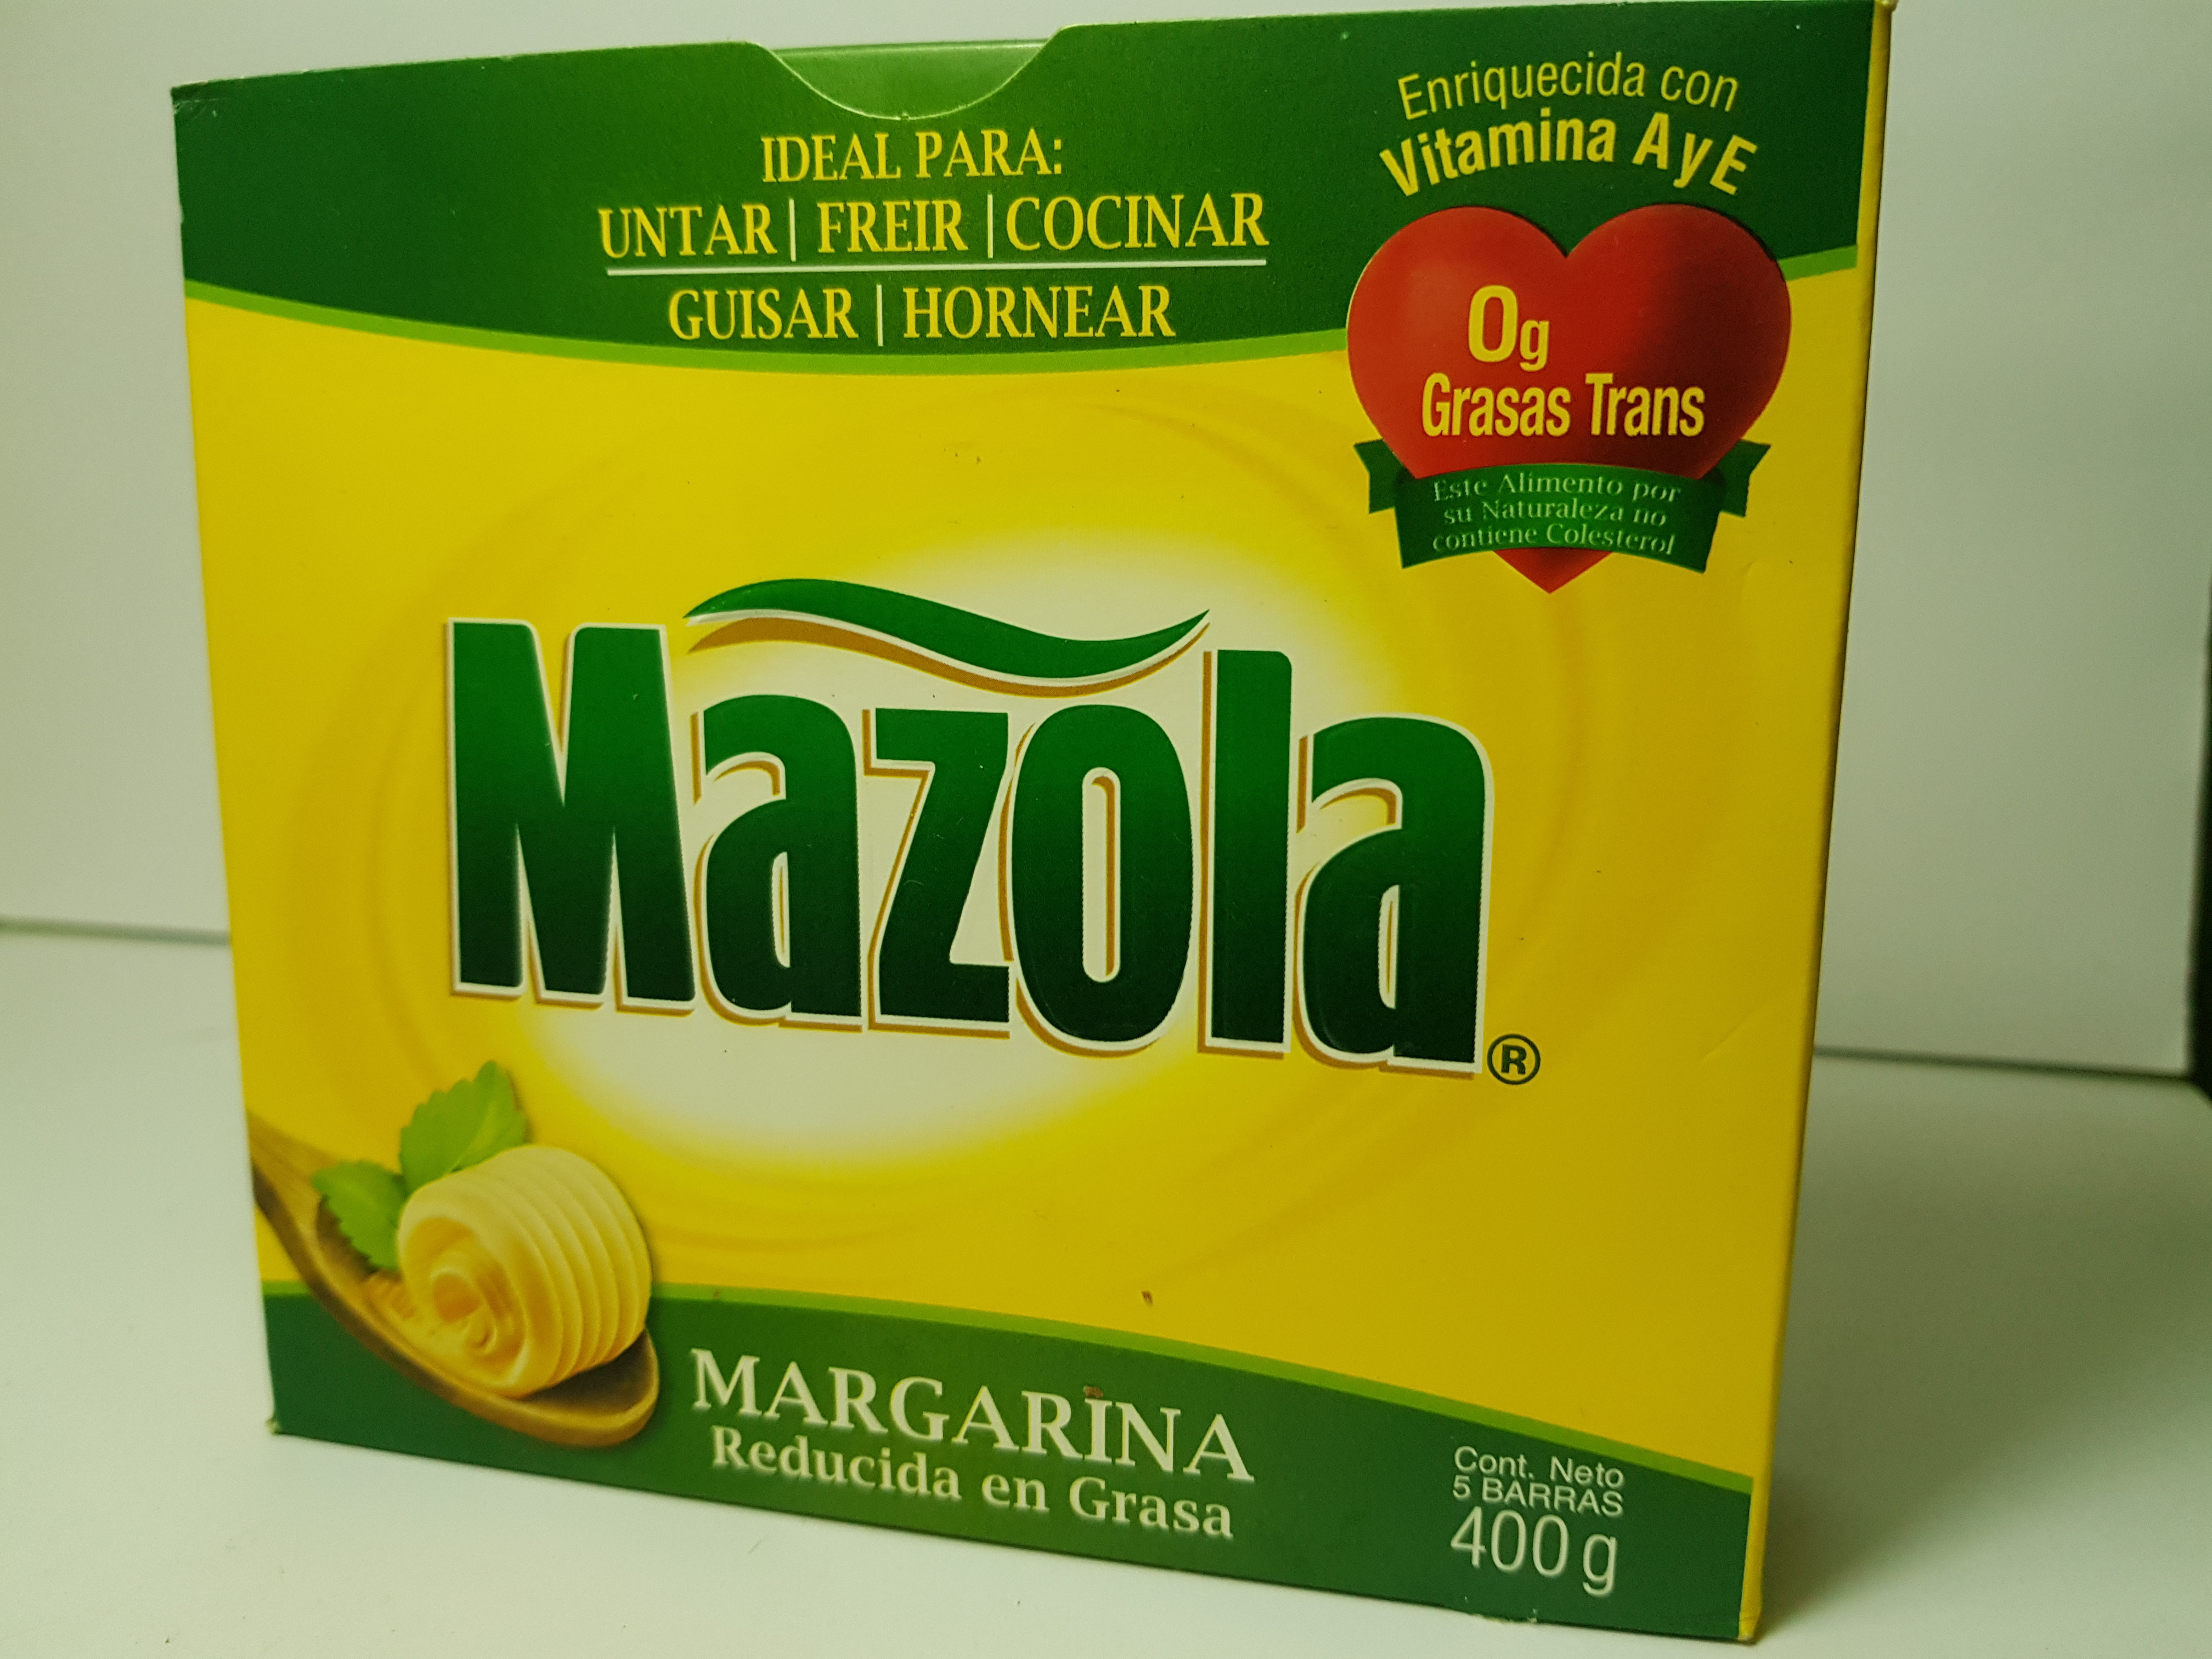mazola: (167, 2, 1972, 1650)
